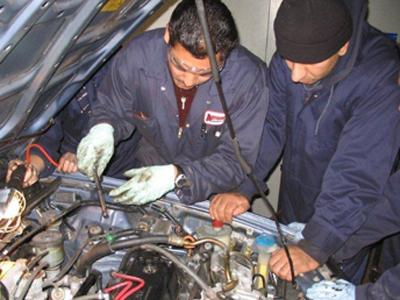person: (77, 1, 270, 205)
